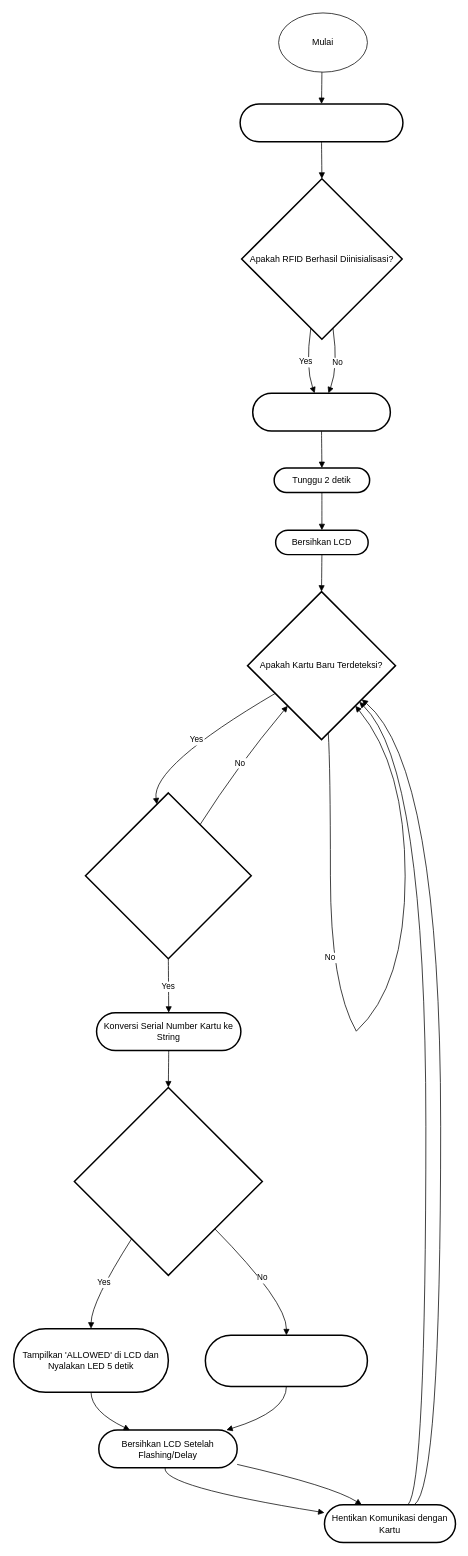
This 468x1556 diagram has some shape labels left out. The shapes that lost their labels are listed below. From the top down, each one's centre as x and y in pixels, then its label:
At [321,122]: "Inisialisasi Serial, LCD, dan RFID".
At [321,411]: "Tampilkan 'RFID Reader...' di LCD".
At [168,875]: "Apakah Kartu Berhasil Dibaca?".
At [168,1181]: "Apakah UID Sesuai dengan UID yang Diizinkan?".
At [286,1360]: "Tampilkan 'DENIED' di LCD dan Flash LED 8 Kali".
